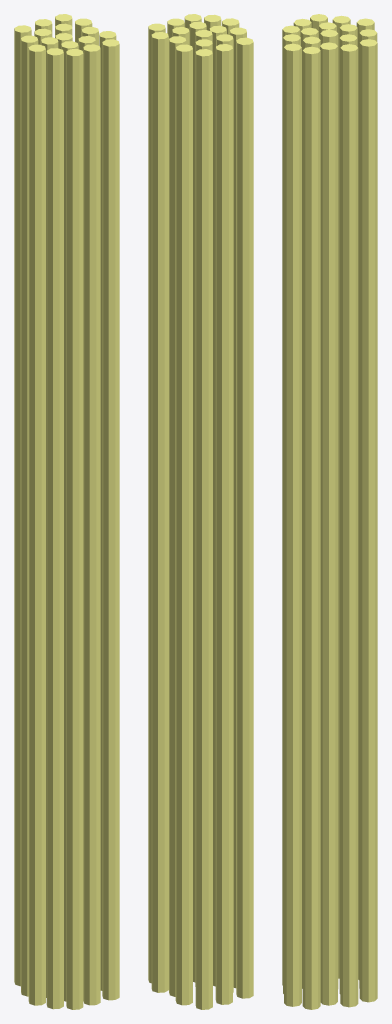
Rendered from Raw_Pasta.fbx.
3 renders of one model, left to right at view 1: azimuth 30°, elevation 25°; view 2: azimuth 210°, elevation 25°; view 3: azimuth 270°, elevation 25°, orthographic.
Visible parts, largest first — view 1: Cylinder.017; view 2: Cylinder.017; view 3: Cylinder.017.
Part boxes in pixels (left/top/right/bottom): Cylinder.017: left=14, top=14, right=119, bottom=1009; Cylinder.017: left=148, top=14, right=253, bottom=1009; Cylinder.017: left=282, top=14, right=377, bottom=1009.
Bounding box in the file's own units: 86.09 × 953 × 86.07.
